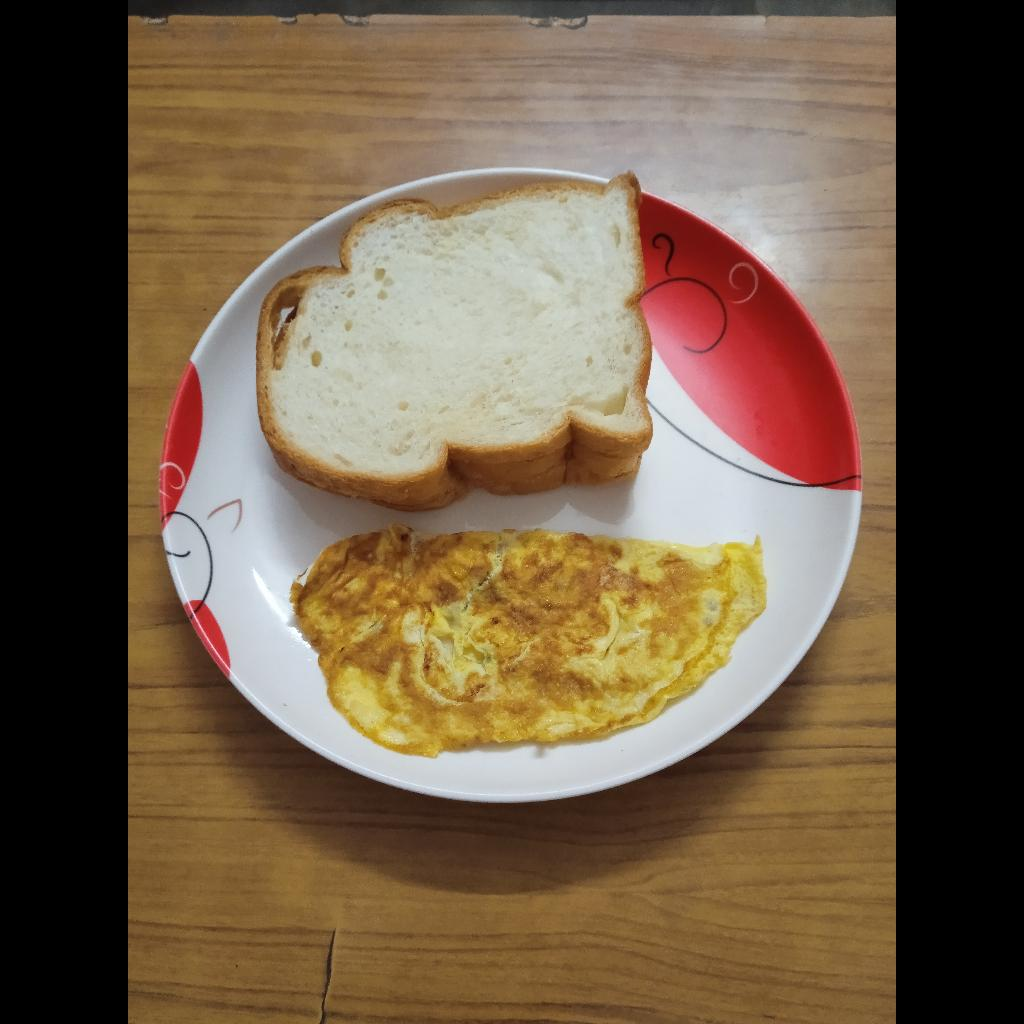bread: (248, 178, 655, 508)
egg-poached: (297, 526, 769, 759)
